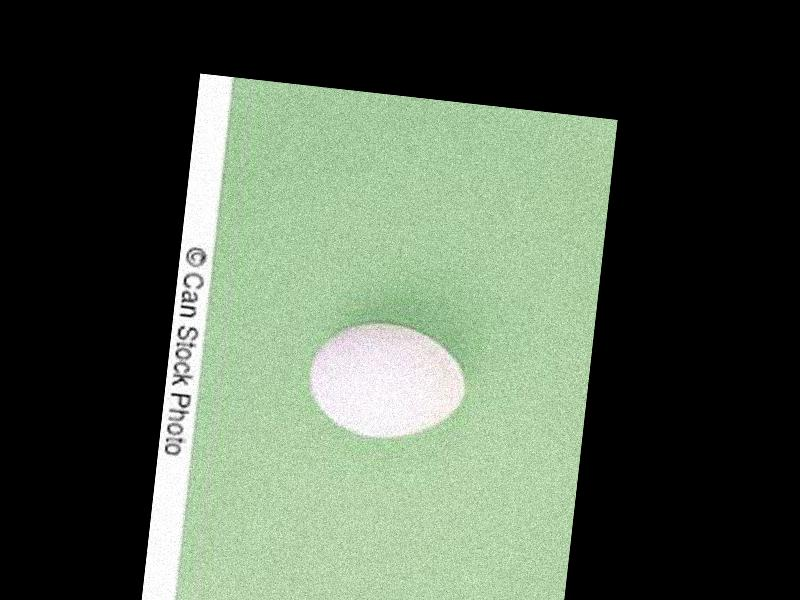Eggs: (305, 316, 470, 444)
